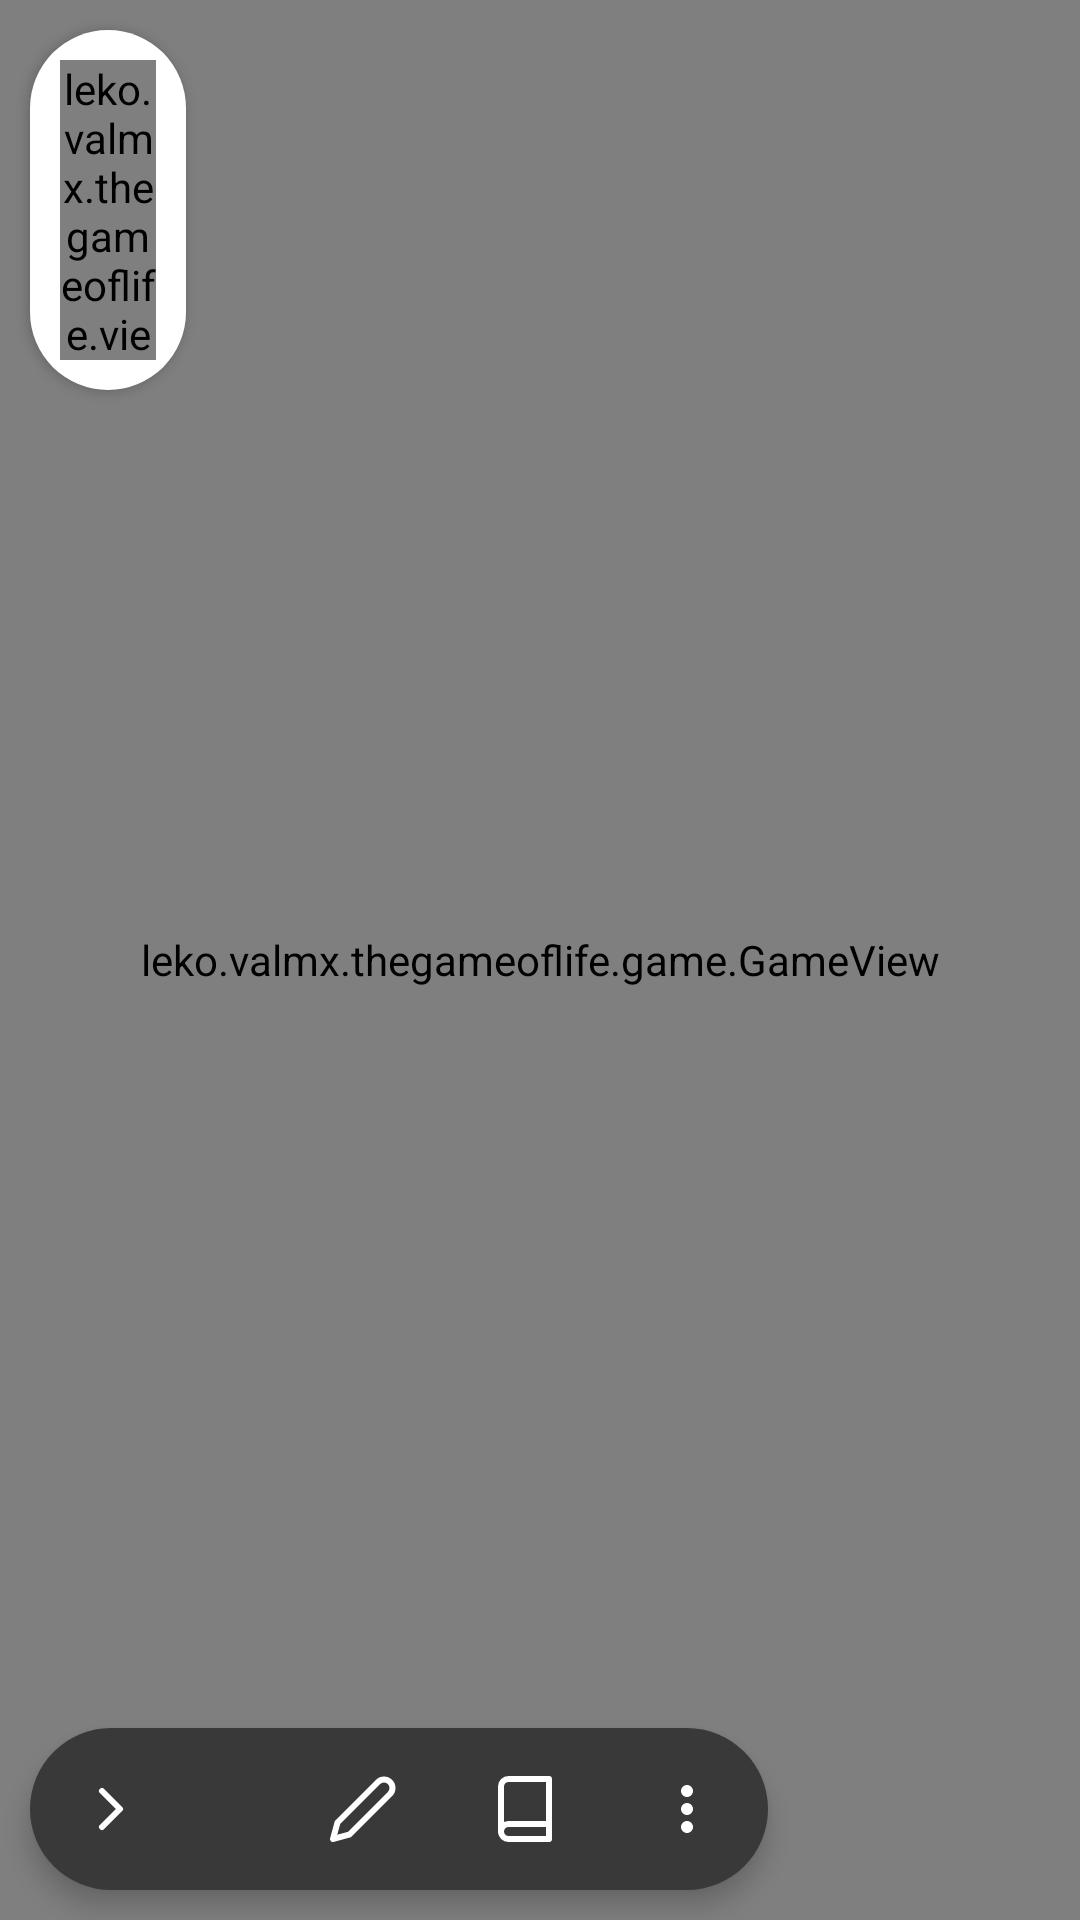

Icons on this 1080×1920 Android screen, each with its box as (x1,y1,x2,y2):
book: (498,1776,552,1842)
chevron right: (30,1728,192,1890)
edit: (330,1776,396,1842)
more vert: (606,1728,768,1890)
